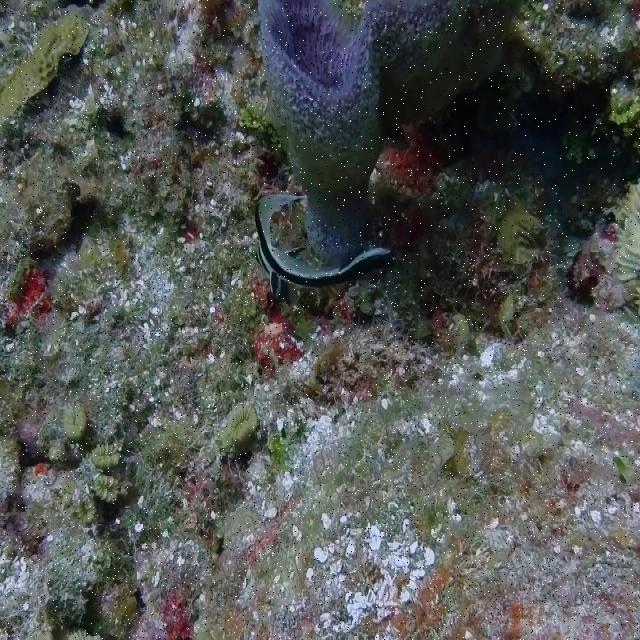fish: (254, 194, 393, 302)
reefs: (256, 0, 523, 262)
